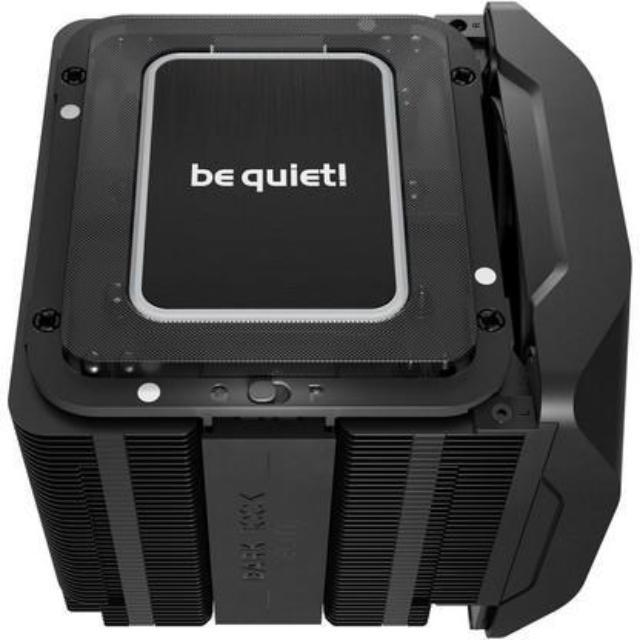CPU_Fan: (12, 9, 630, 640)
